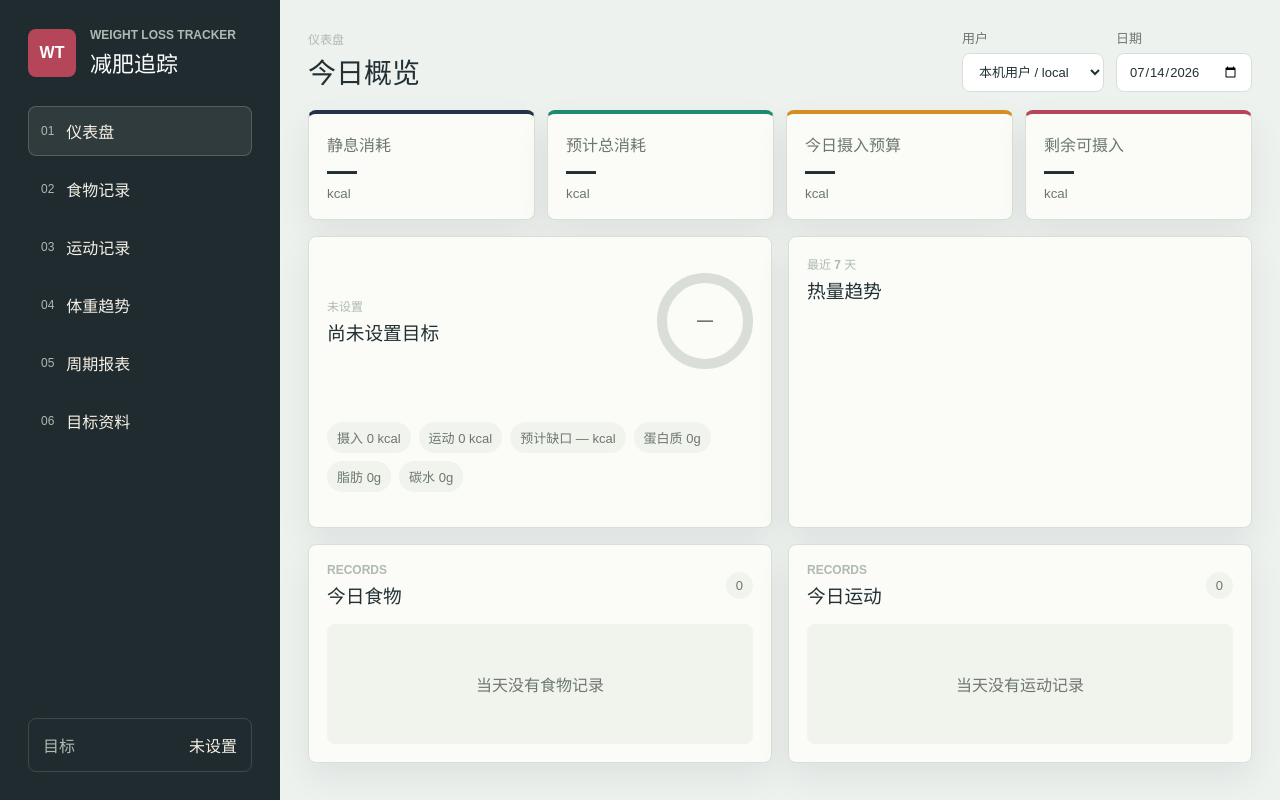
Test: multi-user app › previews food values and only writes after explicit confirmation
This screenshot has width=1280, height=800.
Click the link "02 食物记录" at (86, 190), box [41, 182, 130, 199]
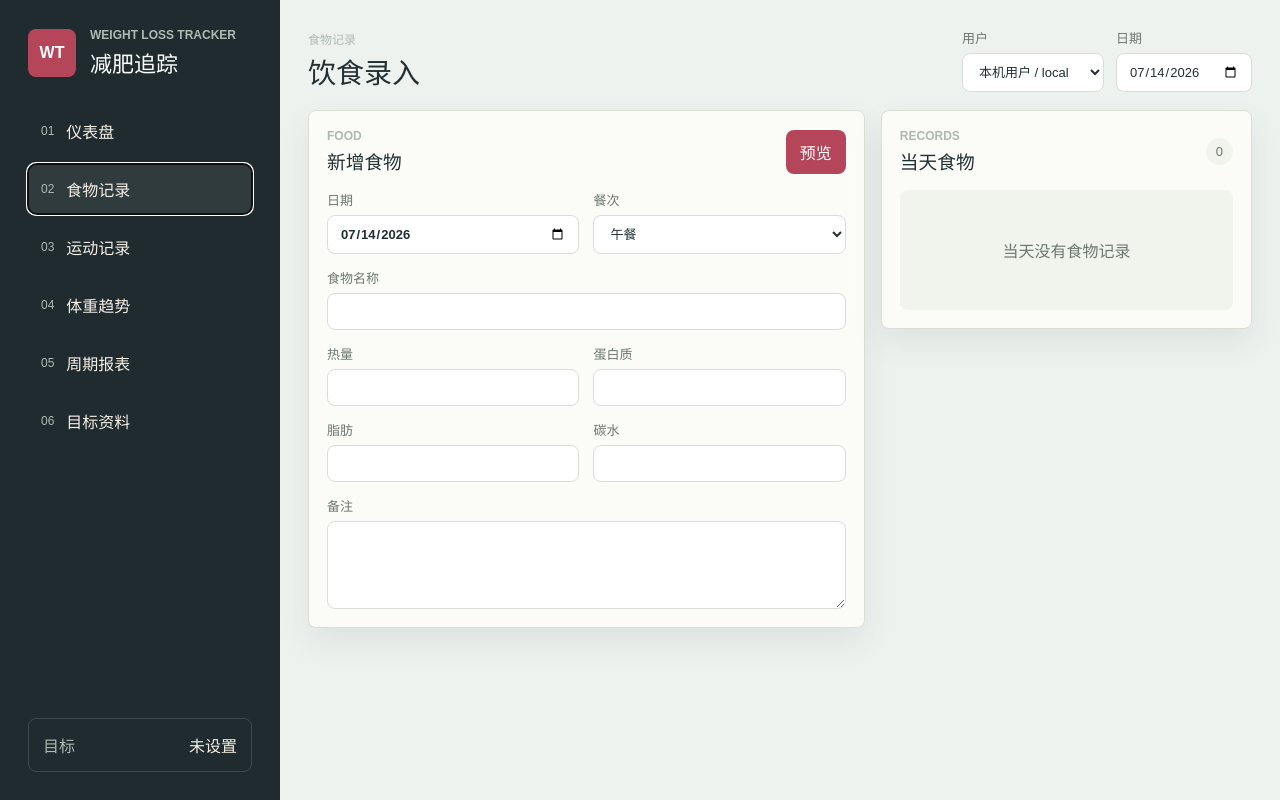
Type "鸡肉沙拉" into the field labelled "食物名称" at (586, 312), box [327, 293, 846, 330]
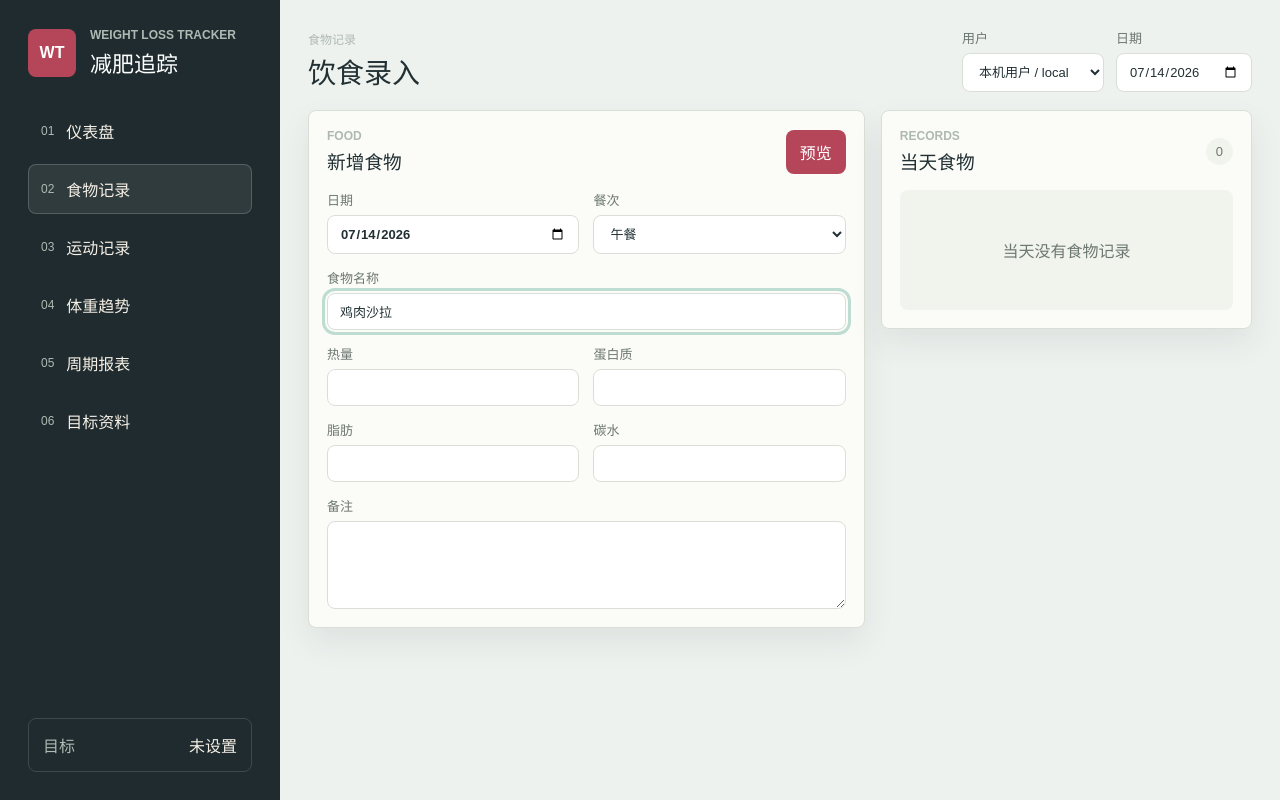
Type "620" into the number field labelled "热量" at (453, 388), box [327, 369, 579, 406]
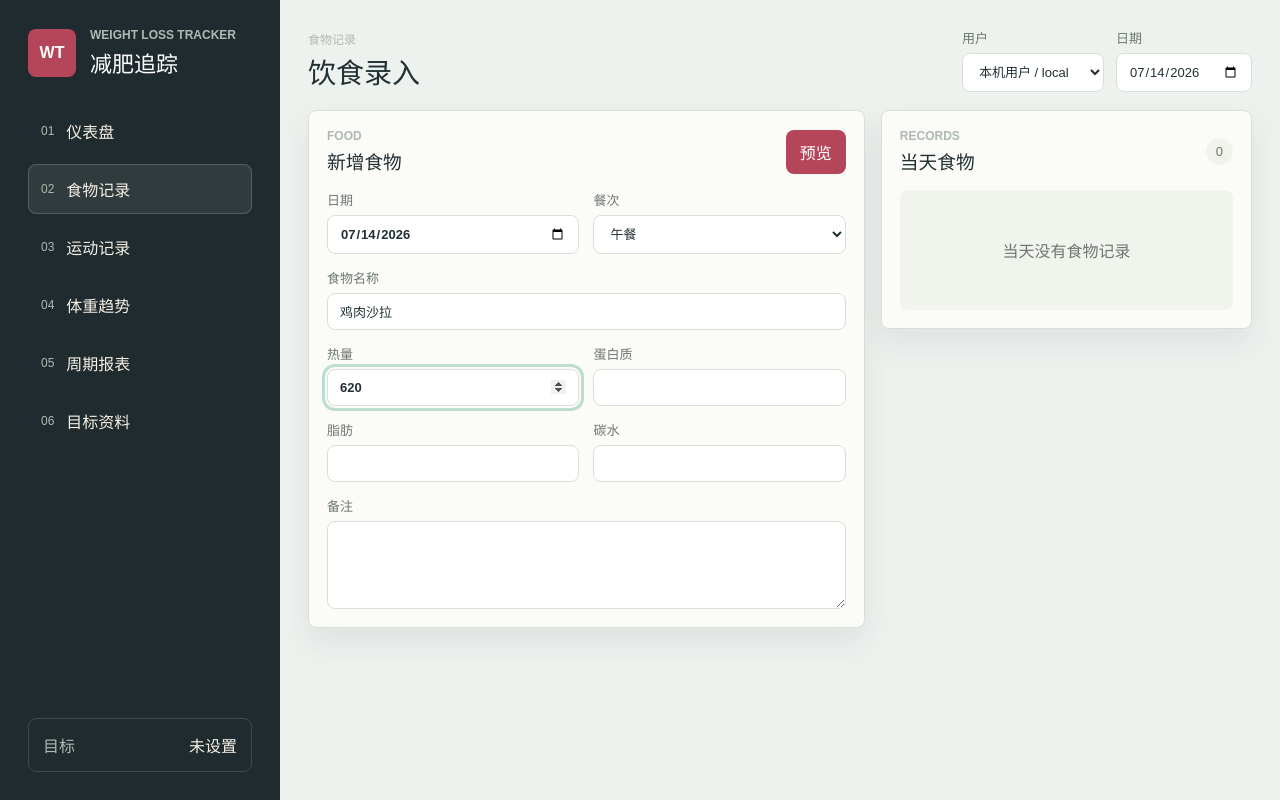
Click the button "预览" at (816, 152), box [786, 130, 846, 174]
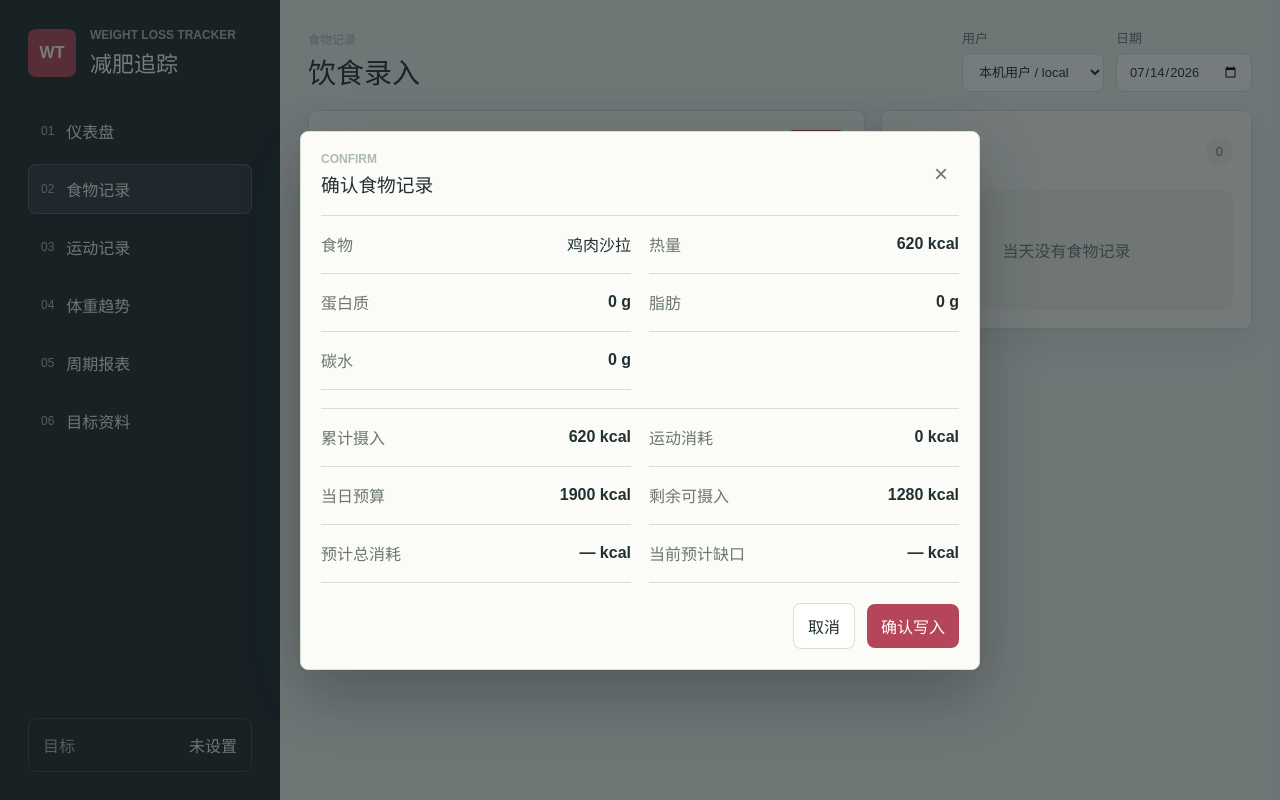
Result: the text "1280 kcal" is shown at [888, 486, 959, 504]
Click the button "确认写入" at (913, 626), box [867, 604, 959, 648]
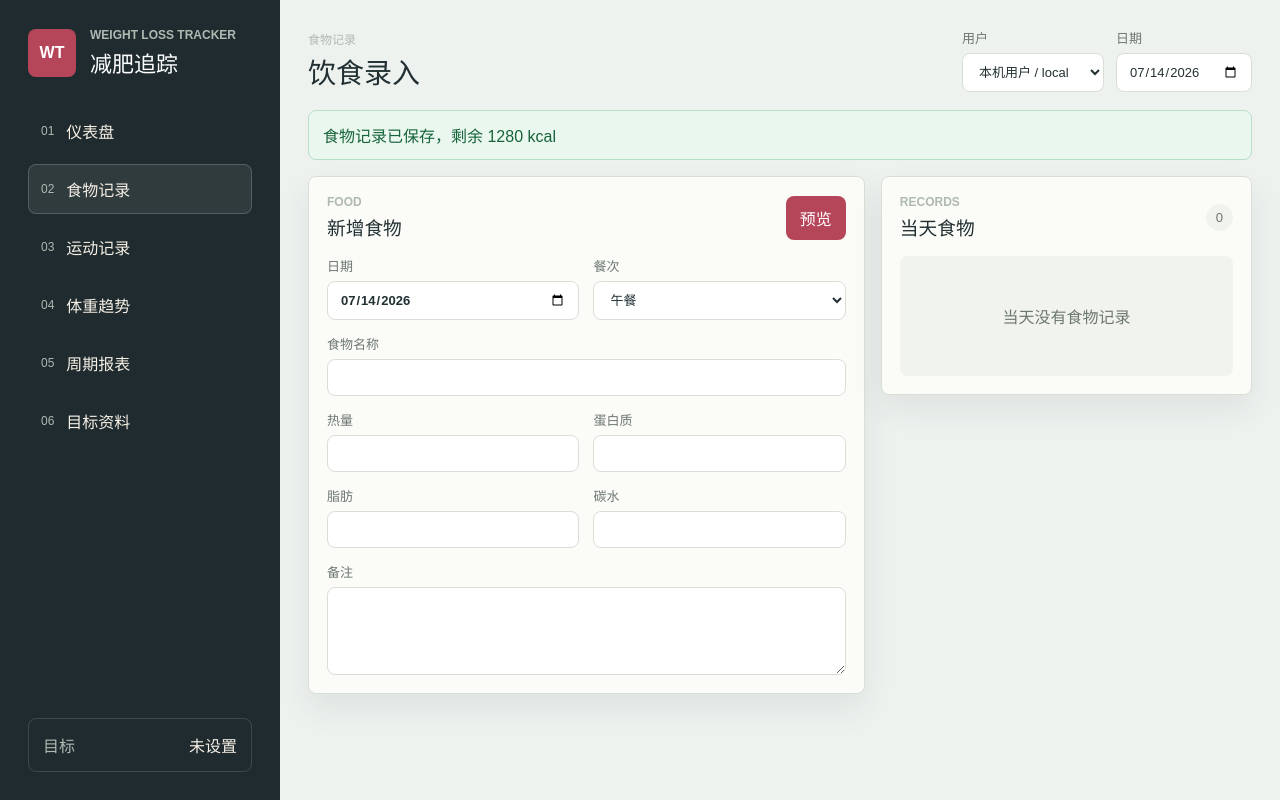
Result: the text "食物记录已保存，剩余 1280 kcal" is shown at [308, 110, 1252, 160]
